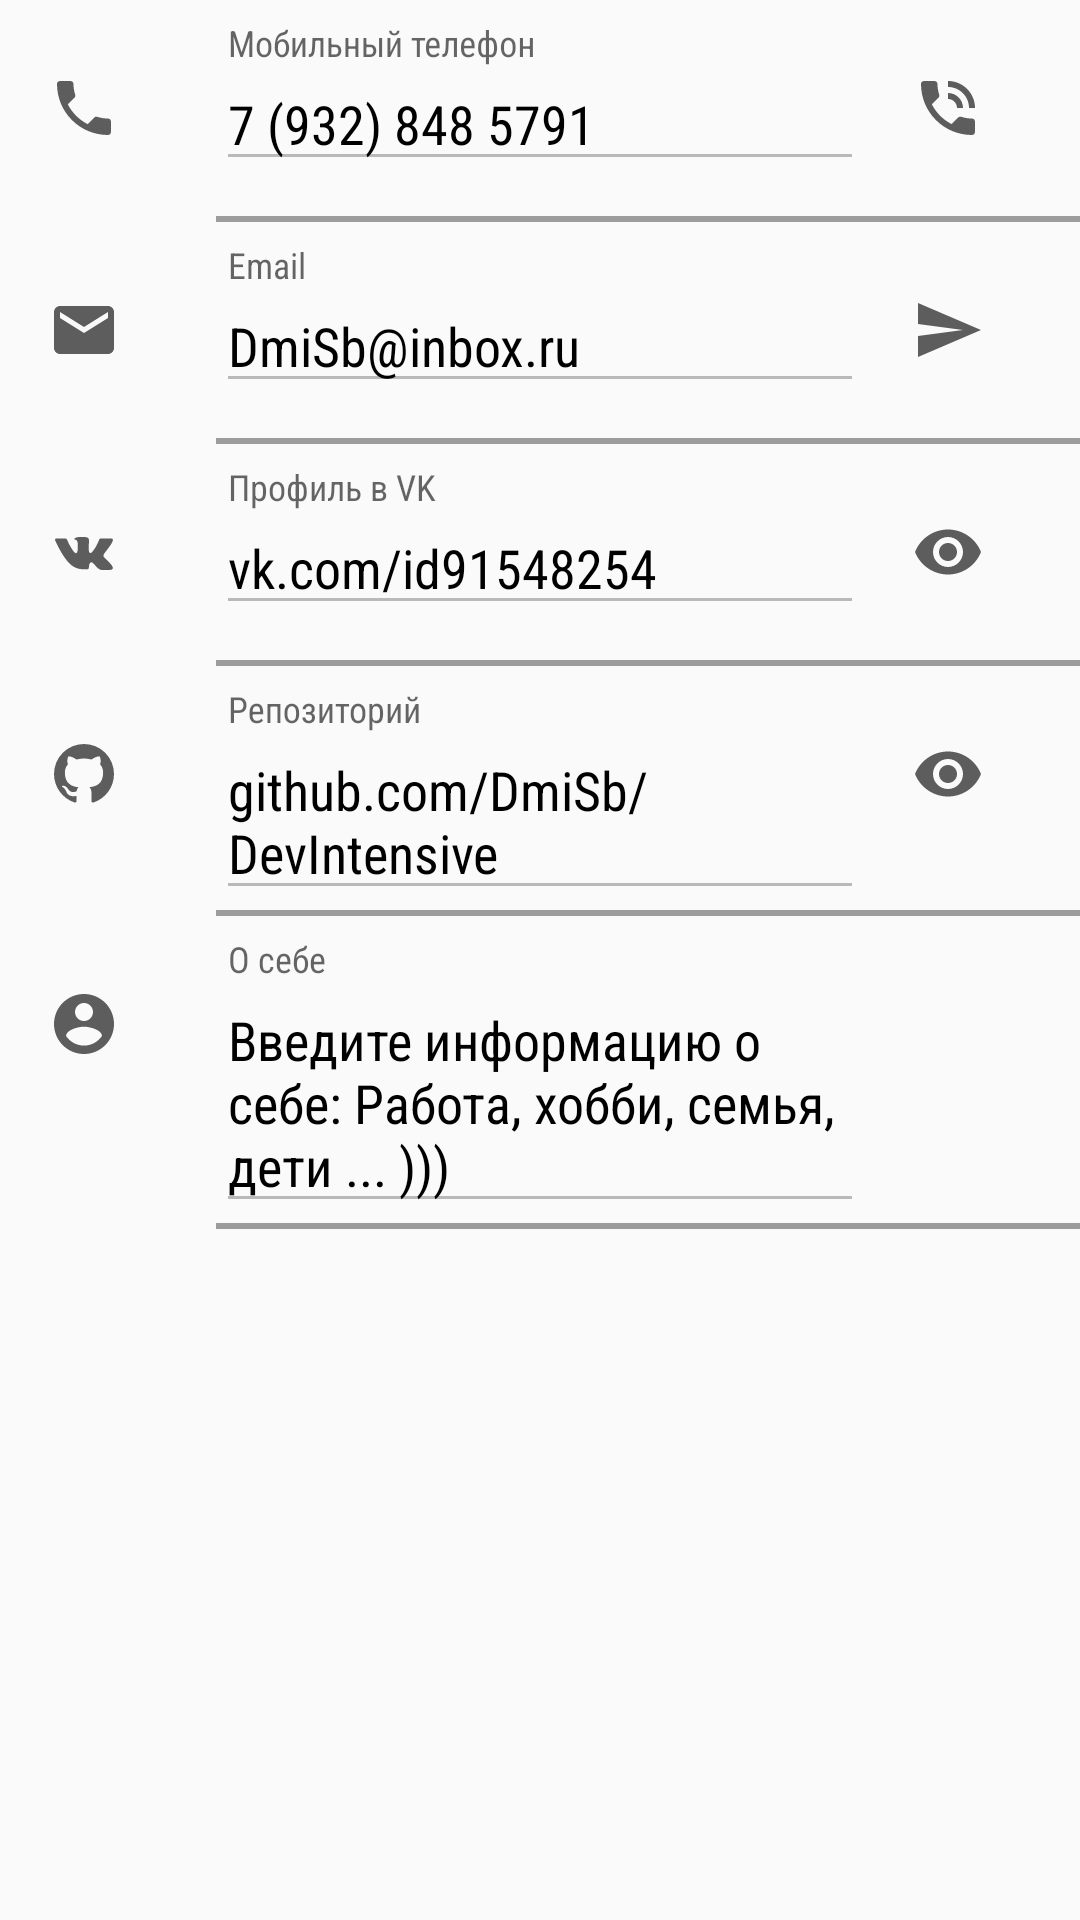

Point at icon controls on the screen. Image size 1080 × 1920, points as (x=x, y=y).
account circle: (x=84, y=1024)
call: (x=84, y=108)
phone in talk: (x=948, y=108)
send: (x=949, y=330)
visibility: (x=948, y=552), (x=948, y=774)
